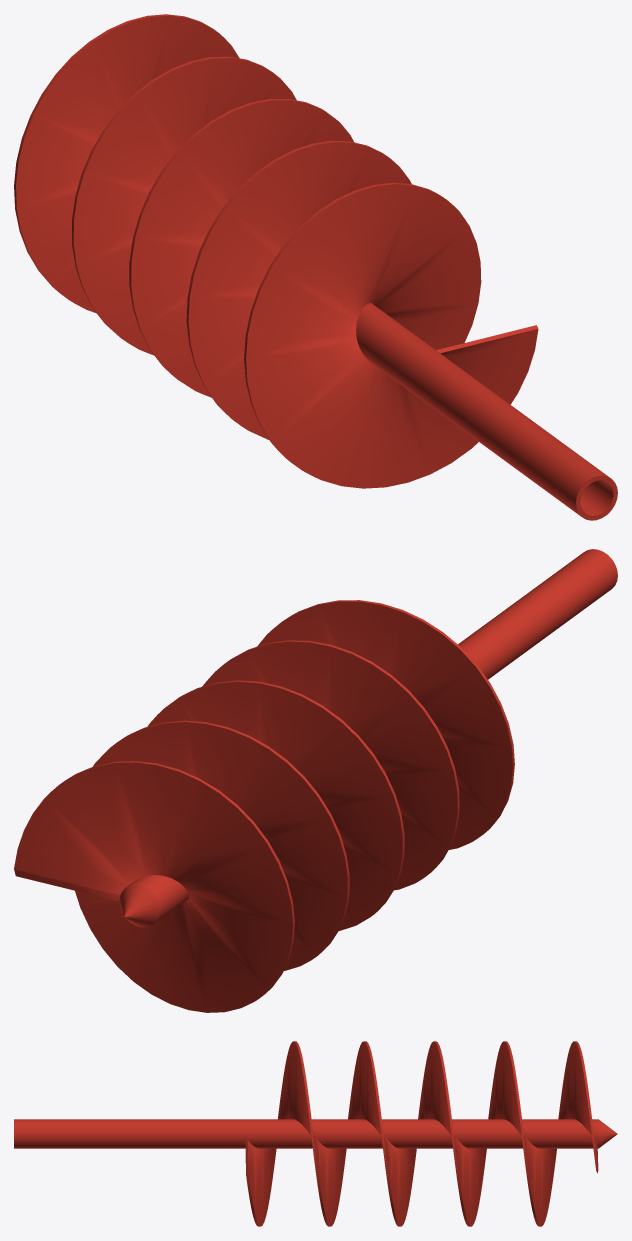
3 views of the same model, one above another, from view 1: azimuth 30°, elevation 25°; view 2: azimuth 150°, elevation 25°; view 3: azimuth 270°, elevation 25° (orthographic). The views are drawn at different scales.
Visible parts, largest first — view 1: Body1; view 2: Body1; view 3: Body1.
Boxes of the visible parts, box(x1,y1,x2,y2) form: Body1: box(14, 14, 617, 520); Body1: box(14, 549, 617, 1012); Body1: box(14, 1041, 617, 1226).
Bounding box in the file's own units: 23.8 × 23.8 × 77.5.
